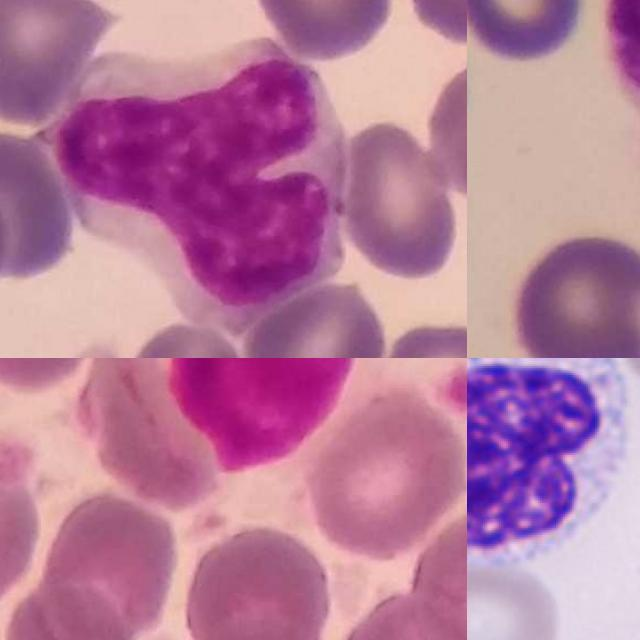Lymphocyte: (467, 358, 640, 581)
Monocyte: (53, 38, 345, 320), (140, 358, 366, 478)
RBC: (467, 552, 566, 640)
